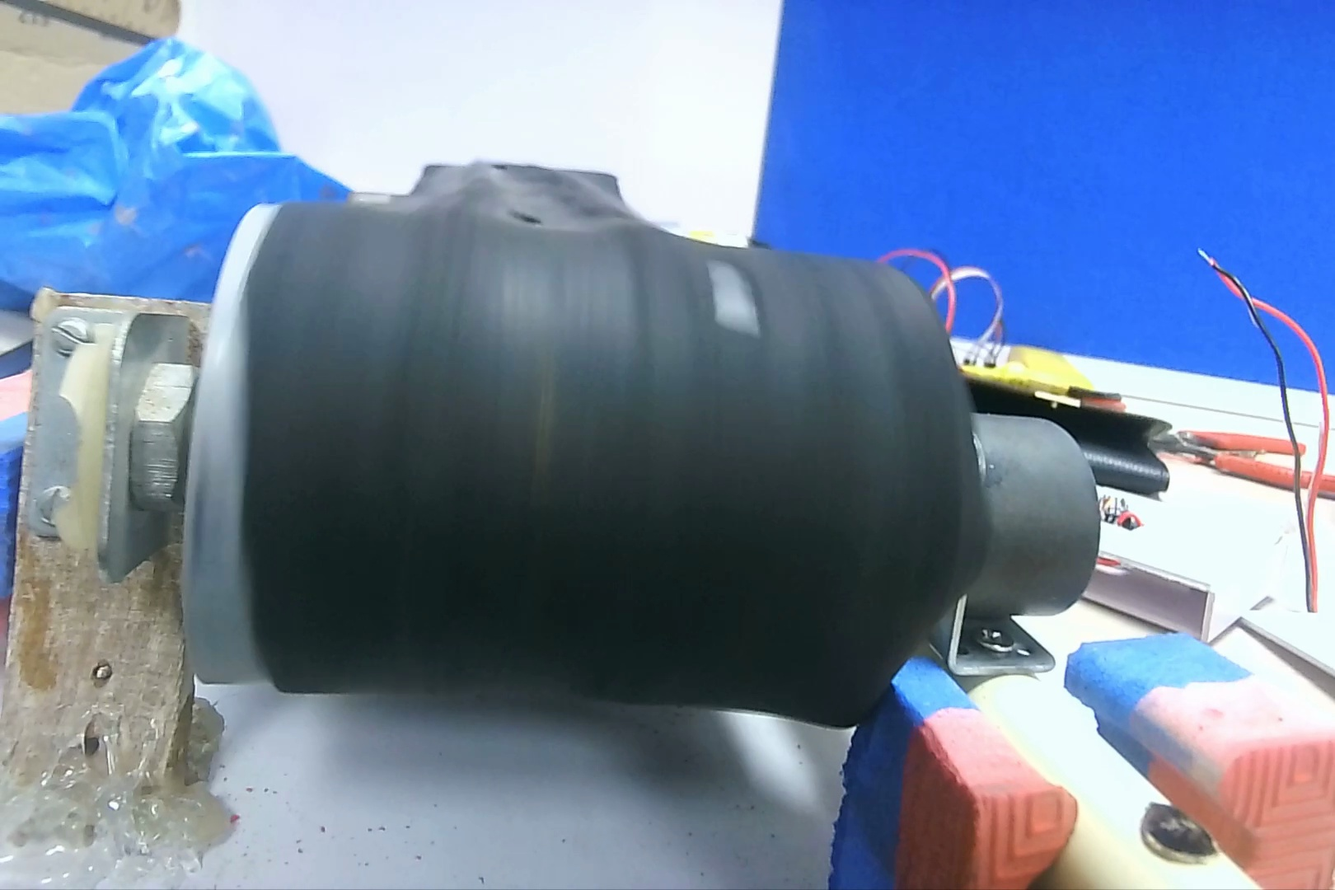hole: (725, 712, 818, 805), (701, 244, 768, 353)
